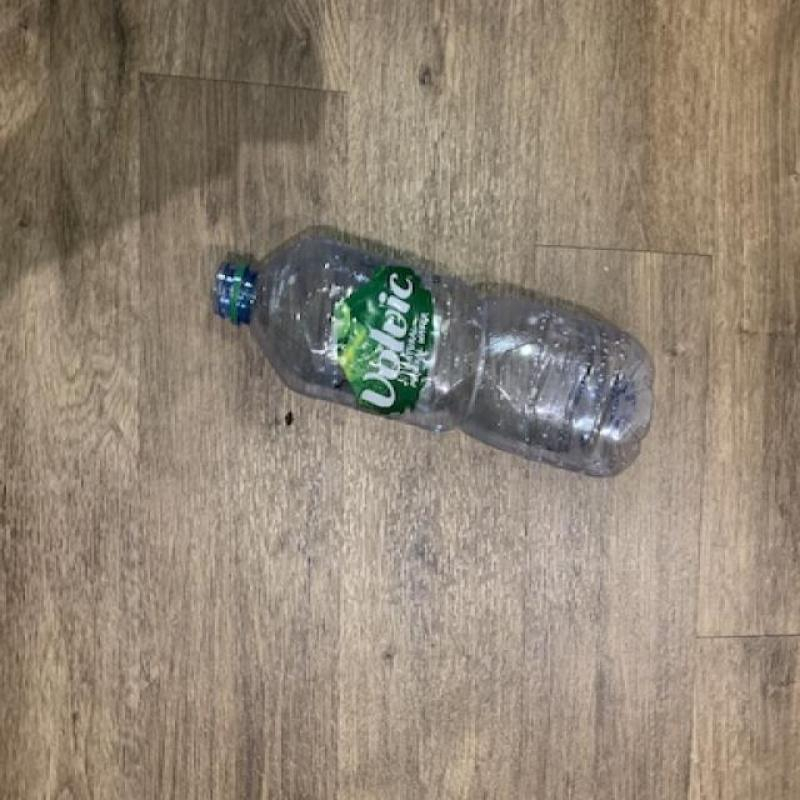botella: (204, 238, 655, 478)
